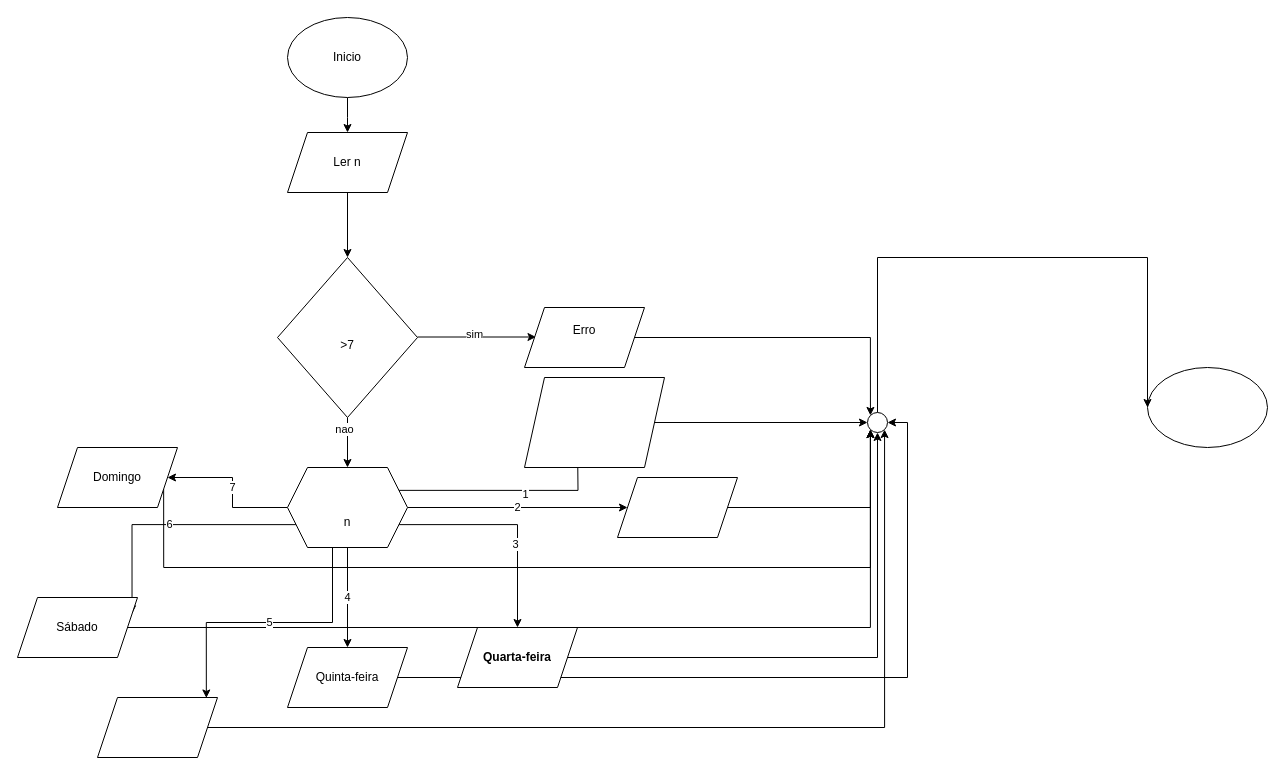
The diagram is 1285 pixels wide and 775 high, and some of its shapes have lost their labels. The box of each missing label's shape, as (x1, y1, x2, y2) in pixels:
Fim: (1146, 366, 1268, 448)
Segunda-feira: (524, 376, 664, 468)
Sexta-feira: (96, 696, 218, 758)
Terça-feira: (616, 476, 738, 538)
